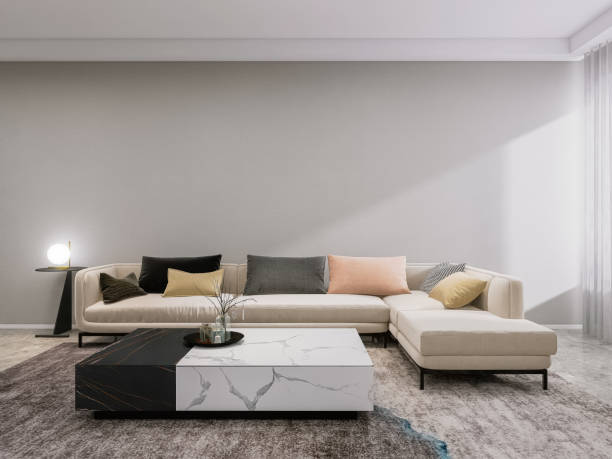flower vase: (207, 279, 249, 339)
sofa: (68, 252, 558, 391)
table: (71, 326, 378, 423)
